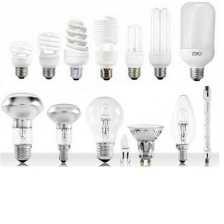light_bulb: (0, 90, 46, 175), (81, 93, 128, 169), (177, 1, 219, 82), (43, 98, 85, 170), (167, 90, 201, 171), (124, 119, 168, 171), (146, 3, 174, 81), (91, 13, 120, 81), (62, 18, 91, 83), (35, 26, 63, 82), (199, 82, 215, 171), (122, 22, 145, 81), (6, 38, 35, 80), (116, 132, 135, 169)
